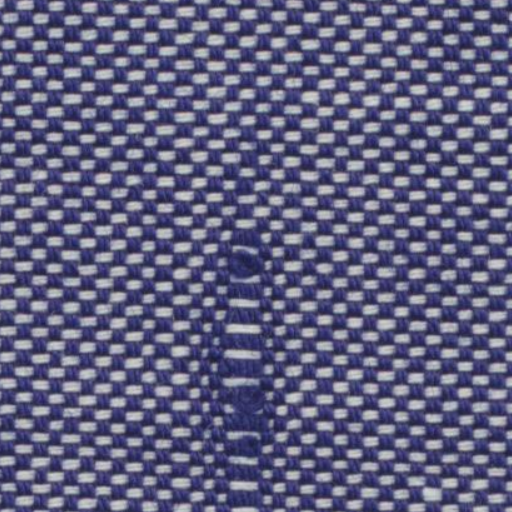DaiSha: (205, 202, 288, 506)
